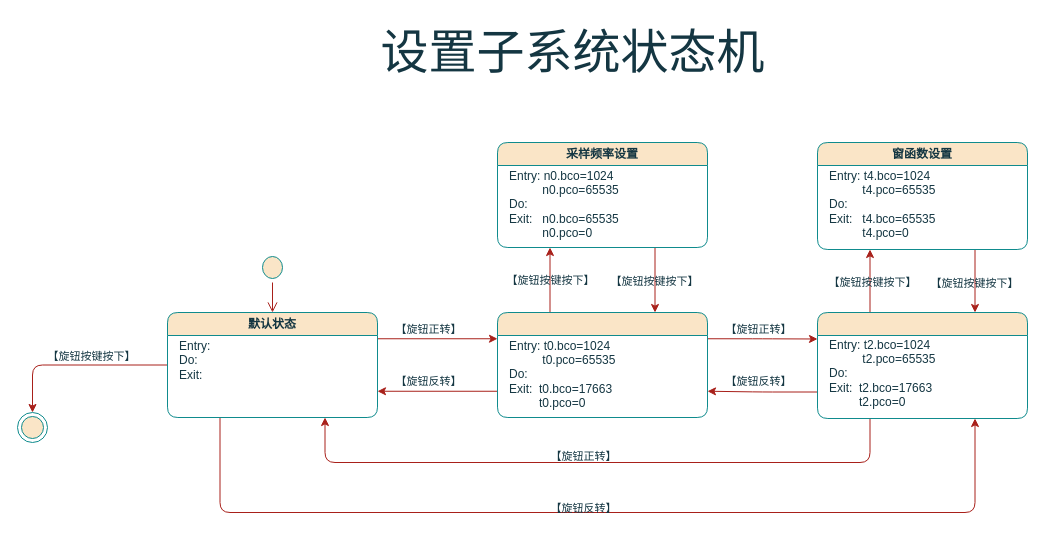
The diagram is 1045 pixels wide and 538 high, and some of its shapes have lost their labels. The box of each missing label's shape, as (x1, y1, x2, y2) in pixels:
窗函数选择: (816, 312, 1028, 418)
采样频率选择: (496, 312, 708, 418)
